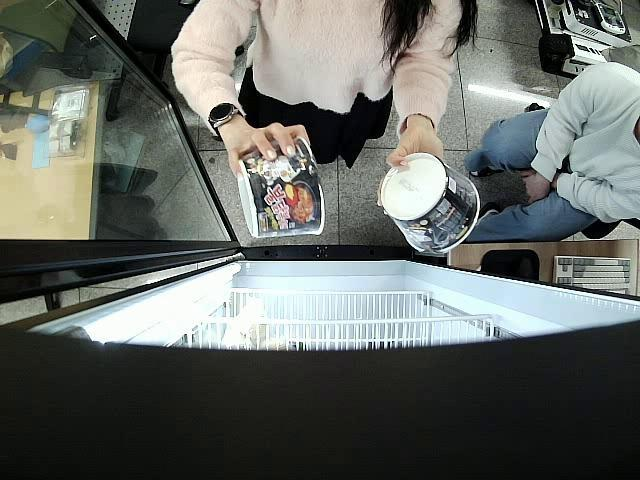07_buldak_L: (380, 152, 478, 254), (236, 136, 326, 240)
